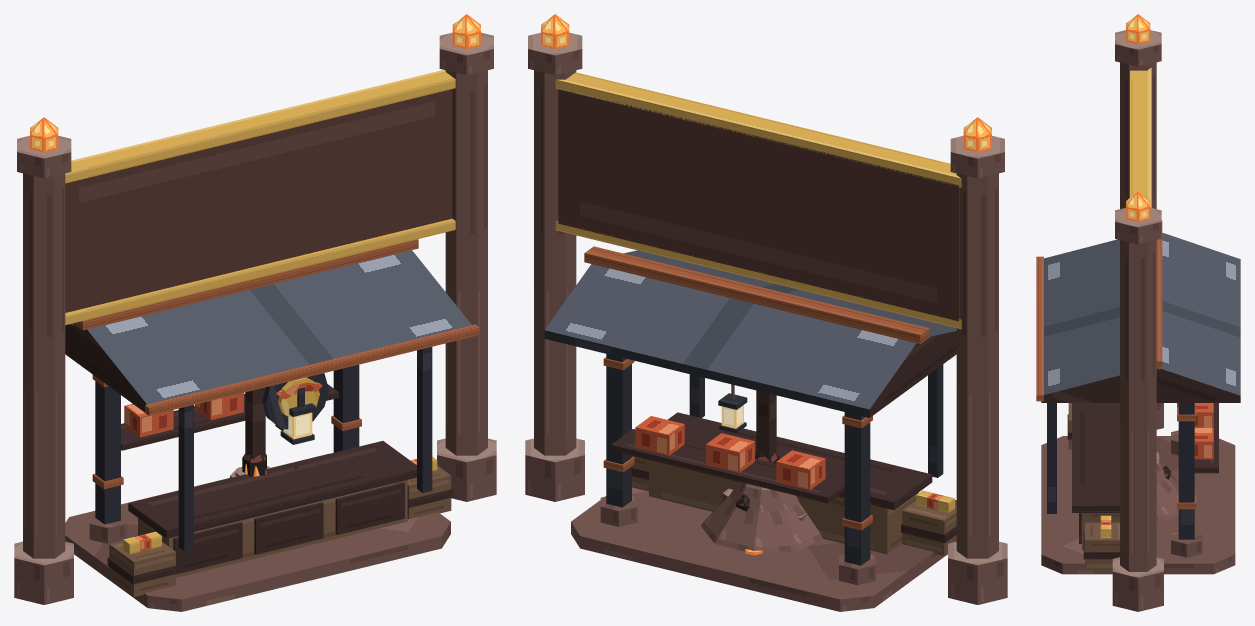
File: volcanic-props.glb
3 renders of one model, left to right at view 1: azimuth 30°, elevation 25°; view 2: azimuth 150°, elevation 25°; view 3: azimuth 270°, elevation 25°, orthographic. The views are drawn at different scales.
Parts seen in each view (by area): view 1: Board, Roof, Upright, Upright.001, Deck, CounterTop, BoardTrim, BoardTrimLow, RoofEdge, RoofRidge, Post, UprightFoot (+22 smaller); view 2: Board, Roof, Deck, Upright, Upright.001, BoardTrim, RoofRidge, Counter, Cone, CounterTop, Shelf, Post (+17 smaller); view 3: Roof, Upright.001, Deck, CounterTop, BoardTrim, Upright, UprightFoot.001, Post.001, UprightCap, UprightCap.001, Crate.001, RoofEdge (+11 smaller).
Part boxes in pixels (x1,y1,x2,y2): Board: [65, 89, 452, 312]; Roof: [65, 250, 474, 415]; Upright: [23, 173, 65, 558]; Upright.001: [445, 70, 487, 455]; Deck: [65, 453, 450, 611]; CounterTop: [128, 441, 416, 538]; BoardTrim: [65, 70, 455, 183]; BoardTrimLow: [65, 218, 455, 324]; RoofEdge: [145, 324, 479, 414]; RoofRidge: [73, 239, 418, 330]; Post: [95, 381, 120, 524]; UprightFoot: [14, 541, 73, 604]; Board: [558, 87, 959, 321]; Roof: [544, 250, 956, 417]; Deck: [571, 487, 947, 611]; Upright: [956, 173, 998, 558]; Upright.001: [534, 70, 576, 455]; BoardTrim: [555, 72, 961, 187]; RoofRidge: [584, 246, 929, 343]; Counter: [649, 460, 918, 554]; Cone: [701, 481, 822, 553]; CounterTop: [667, 412, 932, 510]; Shelf: [611, 429, 844, 503]; Post: [844, 412, 870, 565]; Roof: [1041, 232, 1240, 402]; Upright.001: [1120, 240, 1156, 571]; Deck: [1041, 436, 1235, 574]; CounterTop: [1072, 403, 1119, 512]; BoardTrim: [1130, 67, 1151, 207]; Upright: [1120, 62, 1156, 208]; UprightFoot.001: [1112, 557, 1163, 611]; Post.001: [1178, 403, 1194, 539]; UprightCap: [1115, 30, 1161, 66]; UprightCap.001: [1115, 207, 1161, 244]; Crate.001: [1085, 522, 1119, 570]; RoofEdge: [1036, 256, 1043, 401].
Bounding box in the file's own units: 8.9 × 8.37 × 3.79.
Materials: 2 (2 with a texture image).
